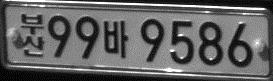5: (169, 19, 194, 64)
6: (227, 22, 253, 67)
8: (197, 20, 223, 66)
9: (140, 18, 165, 62), (47, 14, 71, 58), (75, 15, 99, 58)
바: (103, 20, 128, 58)
부산_V: (20, 13, 45, 57)
